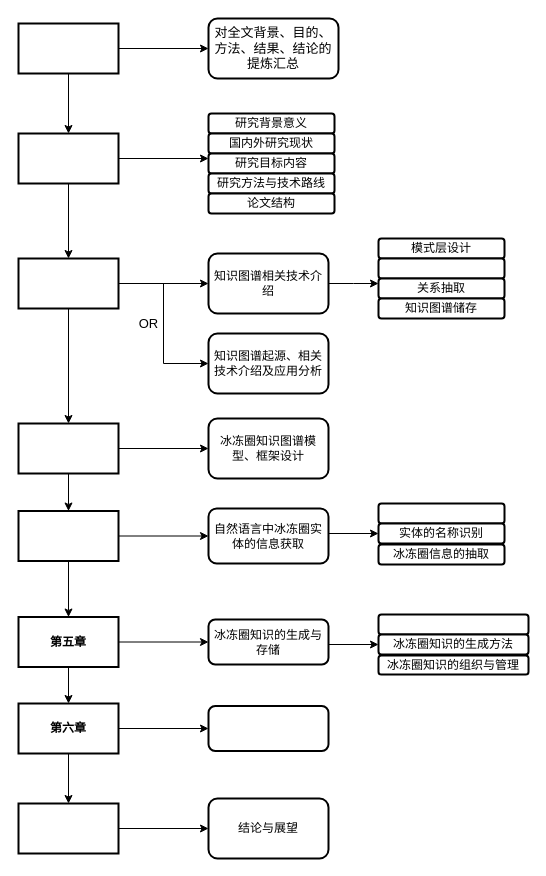
Some shapes in this 546 by 876 pixel diagram are drawn without their labels. The centre of each missing label's shape, as x and y in pixels:
"冰冻圈知识的表达层次" goes at [453,624].
"命名实体识别" goes at [441,268].
"实体的描述特点" goes at [441,513].
"实验验证分析" goes at [268,728].
"摘要" goes at [68,48].
"第一章（绪论）" goes at [68,158].
"第七章" goes at [68,828].
"第三章" goes at [68,448].
"第二章" goes at [68,283].
"第四章" goes at [68,536].
